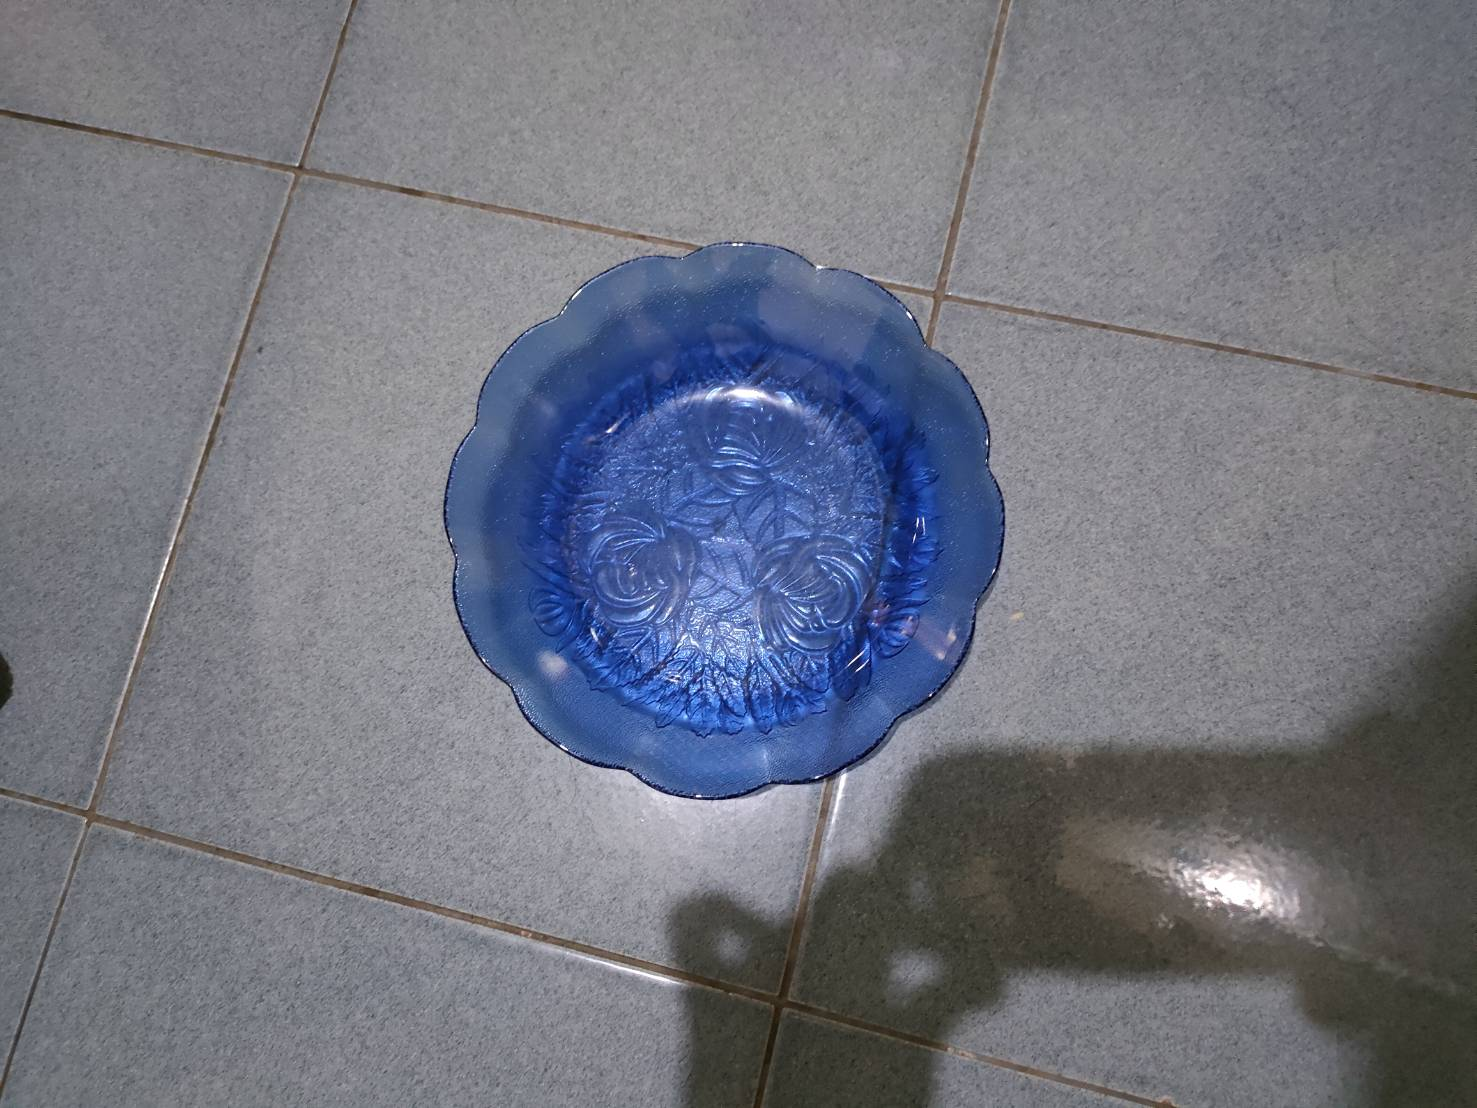piring: (446, 241, 1002, 805)
